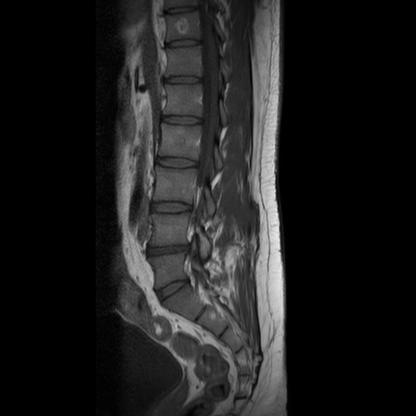Disc Bulgerotation: (149, 242, 189, 262)
